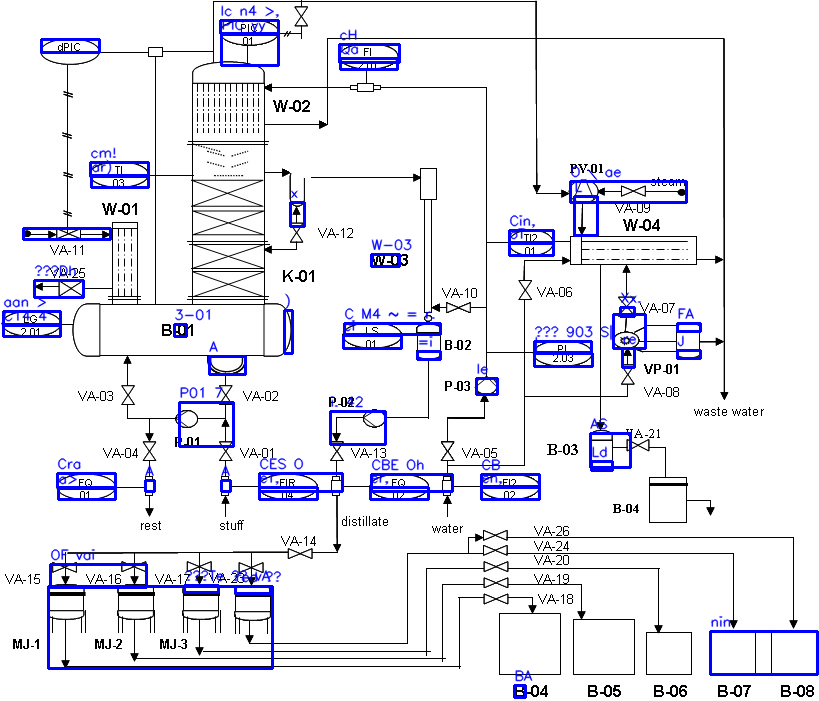Outro: (189, 58, 267, 308), (114, 581, 158, 637), (45, 582, 88, 636), (180, 582, 222, 636), (232, 583, 273, 638), (334, 40, 401, 72), (367, 471, 431, 503), (477, 472, 542, 503), (54, 471, 118, 502), (35, 37, 103, 66), (256, 471, 319, 502), (217, 18, 281, 48), (86, 160, 150, 189), (1, 308, 62, 338), (531, 339, 593, 368), (506, 228, 555, 257), (609, 329, 641, 350), (346, 81, 384, 95), (440, 473, 455, 499), (217, 474, 232, 499), (142, 473, 156, 499), (330, 474, 344, 499)
Reator: (568, 235, 699, 267), (110, 219, 141, 308)
Tanque: (70, 302, 293, 359), (497, 612, 563, 677), (571, 617, 637, 676), (644, 631, 693, 678), (708, 629, 757, 676), (770, 630, 818, 676), (648, 475, 690, 525), (588, 425, 616, 473), (674, 317, 704, 361), (415, 323, 443, 363)
TrocadordeCalor: (566, 176, 600, 208), (359, 408, 388, 430), (473, 374, 500, 397), (173, 408, 200, 429)
Válvula: (54, 277, 87, 300), (287, 219, 308, 247), (616, 294, 637, 320), (286, 545, 316, 563), (623, 437, 653, 455), (619, 361, 637, 388), (444, 299, 474, 315), (480, 527, 510, 543), (120, 381, 137, 409), (292, 5, 311, 30), (216, 438, 234, 464), (48, 560, 79, 575), (184, 559, 215, 574), (619, 183, 648, 199), (328, 438, 345, 465), (217, 383, 235, 408), (54, 226, 83, 241), (481, 591, 510, 606), (516, 278, 534, 302), (440, 438, 456, 464), (141, 439, 158, 463), (120, 559, 149, 573), (481, 542, 510, 556), (237, 561, 265, 575), (482, 575, 510, 588), (482, 560, 510, 572)
